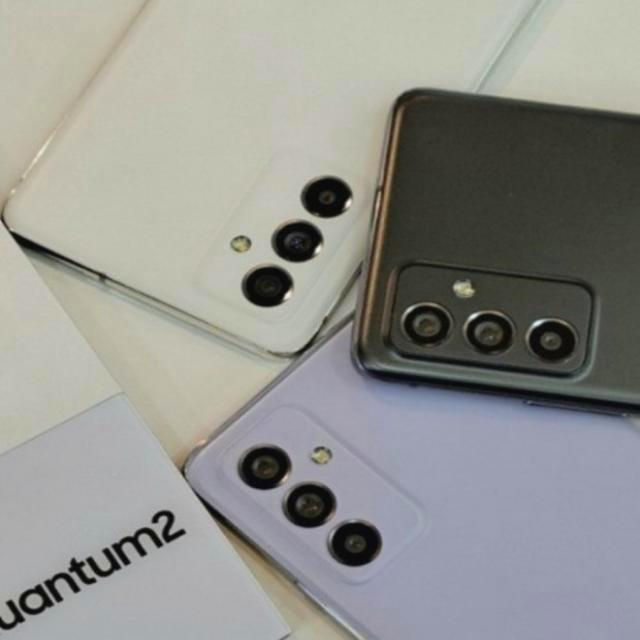lens: (222, 404, 430, 588), (204, 135, 378, 325), (392, 261, 597, 379)
phone: (0, 0, 537, 360), (181, 313, 640, 640), (350, 92, 640, 419)
